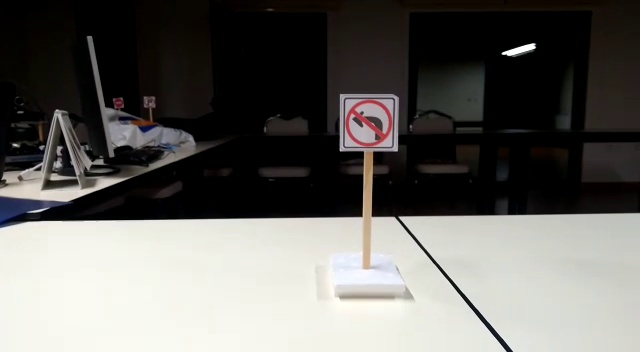sola_donulmez: (341, 96, 396, 153)
